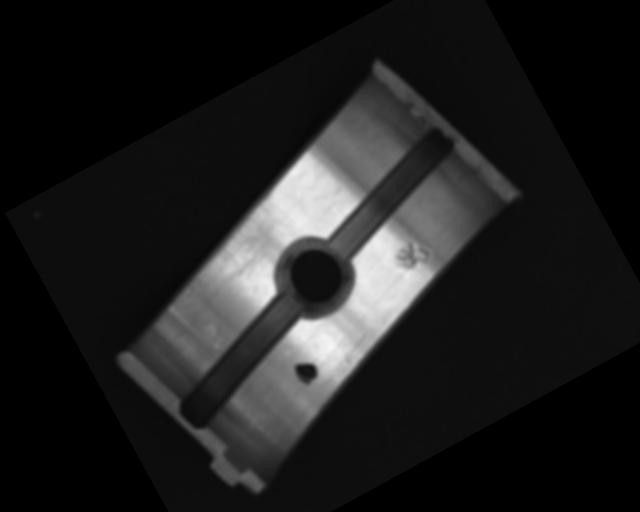blot: (290, 356, 322, 389)
bruise: (388, 234, 434, 276), (199, 319, 227, 353)
gap: (155, 290, 330, 434), (304, 123, 478, 264)
hole: (262, 225, 365, 329)
scratch: (161, 186, 306, 305)
